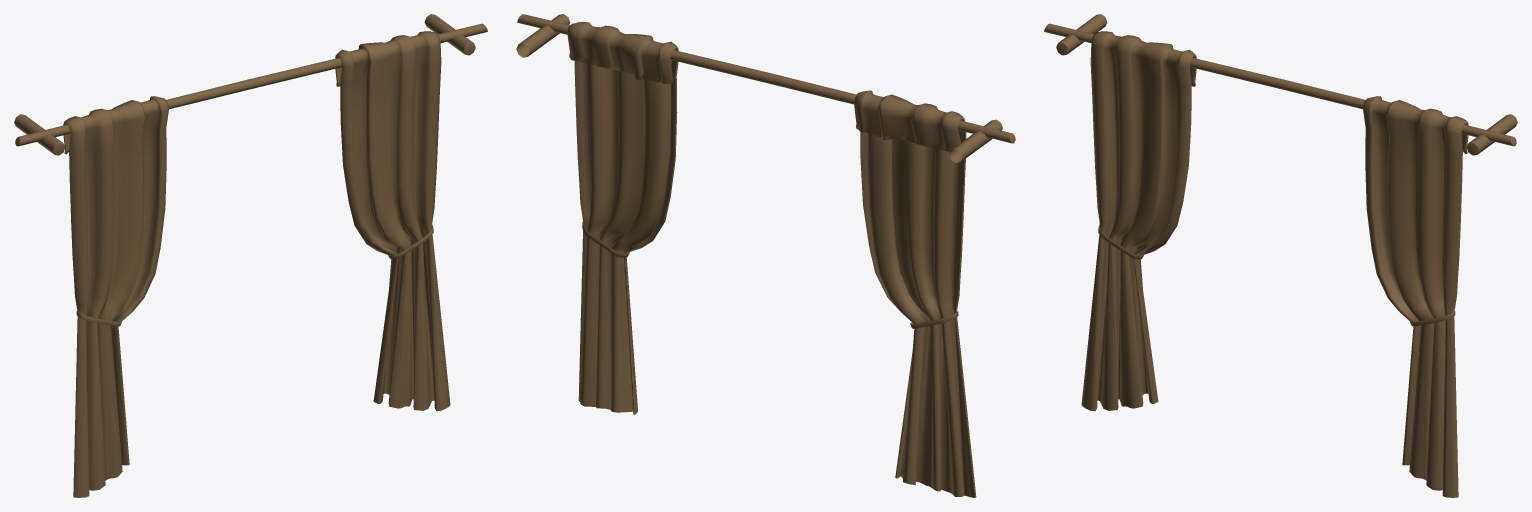
The picture shows the model from 3 angles, left to right: view 1: azimuth 30°, elevation 25°; view 2: azimuth 150°, elevation 25°; view 3: azimuth 330°, elevation 25°; orthographic projection. The views are drawn at different scales.
Visible parts, largest first — view 1: SM_Cliff_Bottom_Rock_02_LOD0; view 2: SM_Cliff_Bottom_Rock_02_LOD0; view 3: SM_Cliff_Bottom_Rock_02_LOD0.
Boxes of the visible parts, box(x1,y1,x2,y2) form: SM_Cliff_Bottom_Rock_02_LOD0: box(14, 14, 487, 497); SM_Cliff_Bottom_Rock_02_LOD0: box(516, 14, 1015, 497); SM_Cliff_Bottom_Rock_02_LOD0: box(1044, 14, 1517, 497).
Bounding box in the file's own units: 2.57 × 1.94 × 0.3673.
